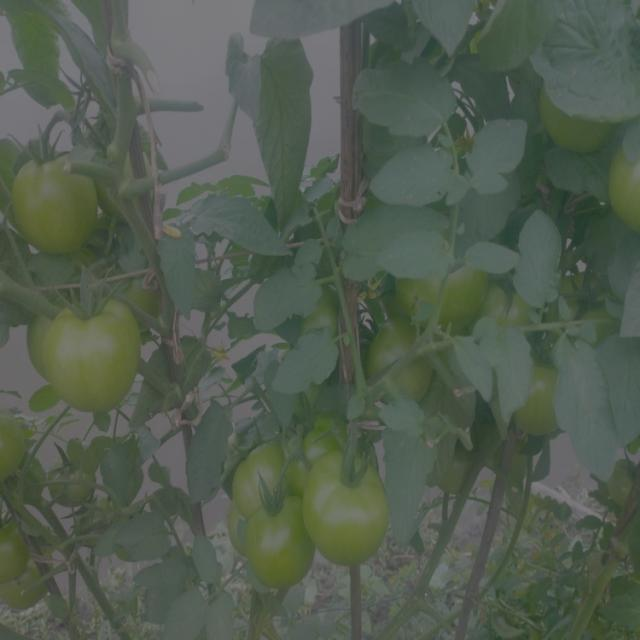tomato: (47, 287, 151, 406), (10, 142, 105, 260), (315, 457, 394, 564), (393, 257, 491, 335), (238, 483, 311, 587), (365, 327, 439, 404), (538, 81, 611, 153), (1, 515, 49, 619), (516, 360, 569, 440), (1, 417, 42, 491), (308, 419, 374, 459), (607, 154, 640, 231), (56, 447, 94, 504), (607, 449, 640, 512), (242, 442, 290, 482), (497, 285, 533, 330), (306, 295, 339, 344)
